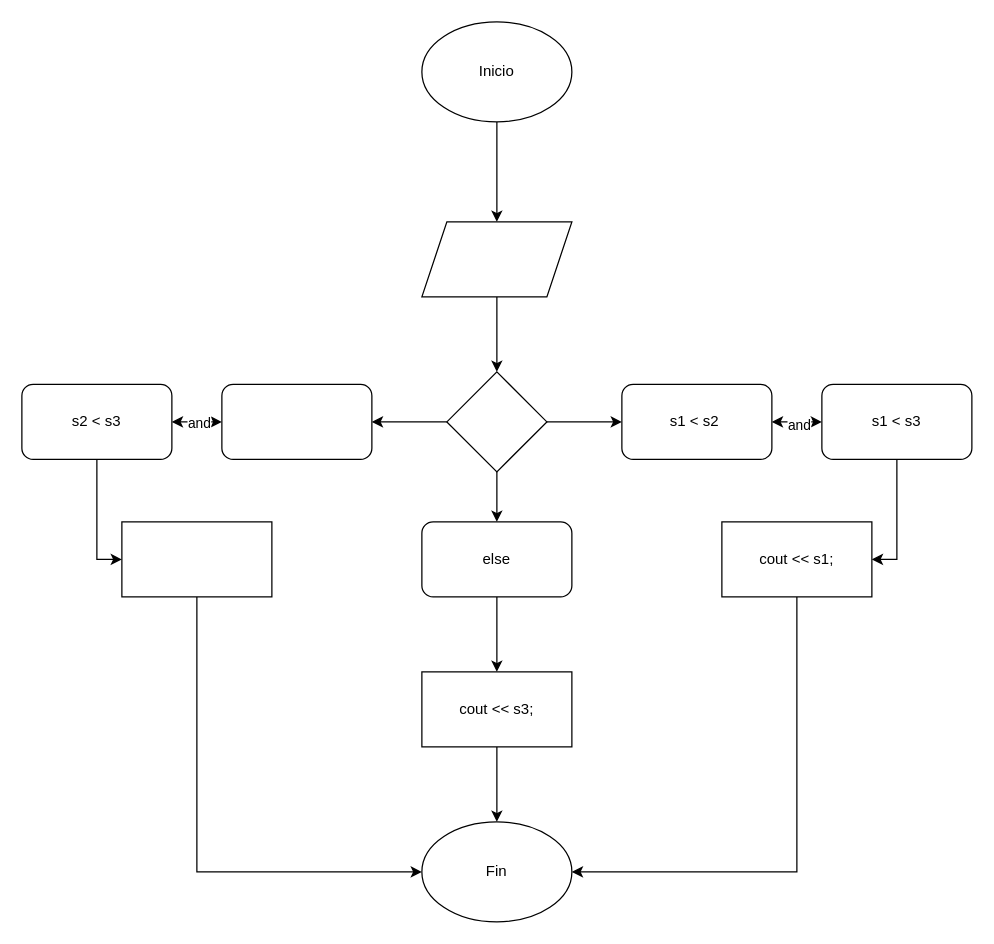
Some shapes in this 994 by 944 pixel diagram are drawn without their labels. Each missing label, with the centre of its shape:
cout << s2;: (196,559)
if: (496,421)
s2 < s1: (296,421)
string s1 , s2 , s3;: (496,259)
